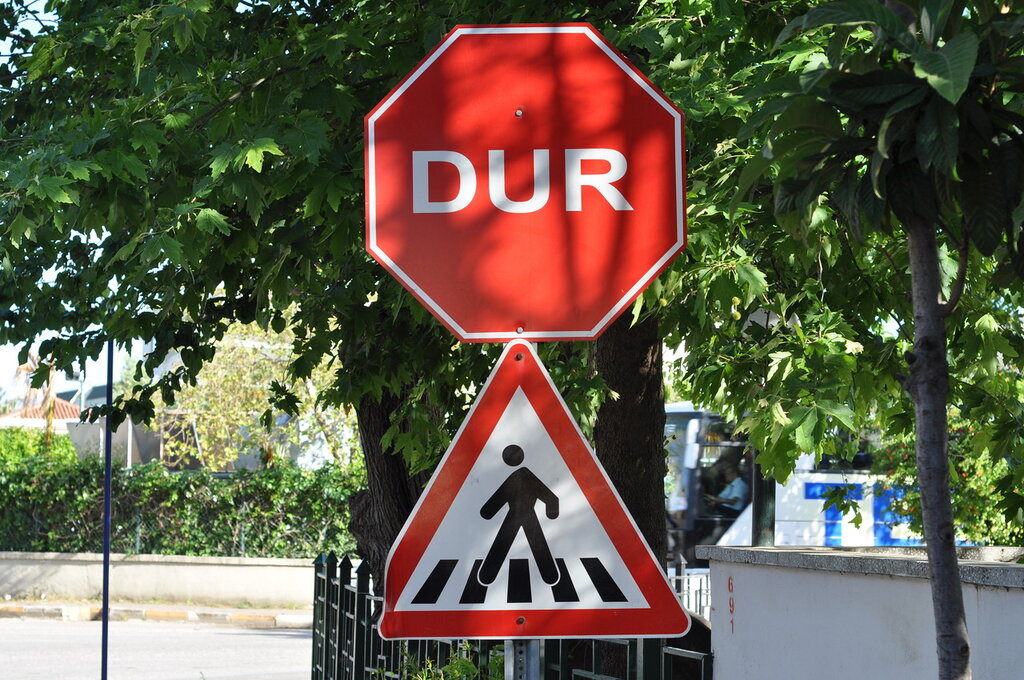dur: (363, 22, 688, 347)
yaya_gecidi: (380, 340, 699, 654)
